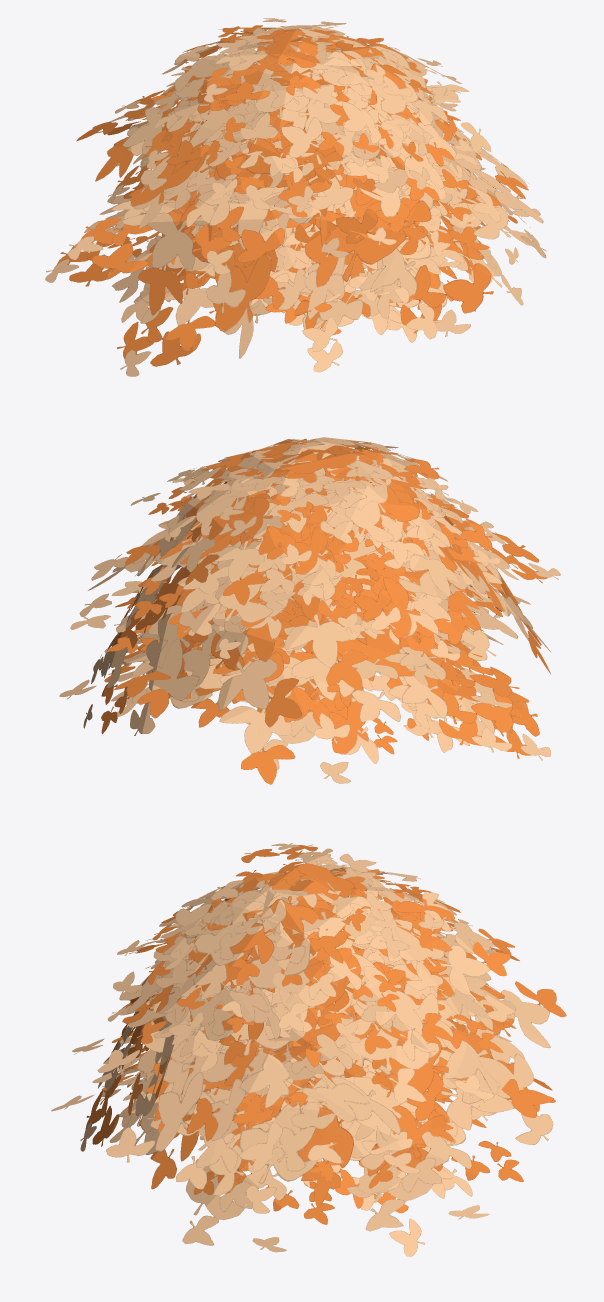
Rendered from SM_Bush.fbx.
3 views of the same model, one above another, from view 1: azimuth 30°, elevation 25°; view 2: azimuth 150°, elevation 25°; view 3: azimuth 270°, elevation 25° (orthographic). The views are drawn at different scales.
Parts seen in each view (by area): view 1: Plane.007, Plane.041, Plane.012, Plane.002, Plane.008, Plane.003, Plane.004, Plane.001, Plane.013, Plane.005, Plane.006, Plane.010 (+2 smaller); view 2: Plane.012, Plane.002, Plane.006, Plane.004, Plane.001, Plane.041, Plane.008, Plane.013, Plane.005, Plane.003, Plane.010, Plane.007 (+2 smaller); view 3: Plane.006, Plane.008, Plane.007, Plane.012, Plane.041, Plane.002, Plane.003, Plane.001, Plane.013, Plane.005, Plane.004, Plane.010 (+1 smaller).
Part boxes in pixels (x1,y1,x2,y2): Plane.007: [130, 72, 543, 358]; Plane.041: [95, 18, 490, 257]; Plane.012: [143, 26, 461, 183]; Plane.002: [76, 80, 500, 274]; Plane.008: [201, 27, 458, 189]; Plane.003: [67, 181, 523, 372]; Plane.004: [111, 167, 485, 376]; Plane.001: [45, 186, 540, 351]; Plane.013: [115, 61, 482, 200]; Plane.005: [107, 212, 460, 350]; Plane.006: [96, 118, 546, 258]; Plane.010: [107, 76, 461, 212]; Plane.012: [131, 439, 500, 605]; Plane.002: [79, 508, 560, 690]; Plane.006: [83, 504, 493, 735]; Plane.004: [70, 581, 550, 784]; Plane.001: [114, 582, 530, 752]; Plane.041: [182, 439, 517, 630]; Plane.008: [131, 437, 448, 584]; Plane.013: [124, 477, 505, 632]; Plane.005: [59, 635, 529, 783]; Plane.003: [105, 619, 519, 707]; Plane.010: [168, 467, 478, 662]; Plane.007: [88, 535, 551, 673]; Plane.006: [106, 923, 566, 1231]; Plane.008: [113, 843, 510, 1097]; Plane.007: [80, 899, 489, 1172]; Plane.012: [117, 869, 514, 1042]; Plane.041: [126, 864, 444, 1044]; Plane.002: [97, 932, 519, 1103]; Plane.003: [99, 1027, 553, 1252]; Plane.001: [72, 1018, 555, 1213]; Plane.013: [146, 903, 472, 1043]; Plane.005: [147, 1085, 486, 1256]; Plane.004: [51, 1063, 552, 1173]; Plane.010: [145, 932, 516, 1037].
Size of the model in its own units: 90.35 by 50.47 by 87.48.
